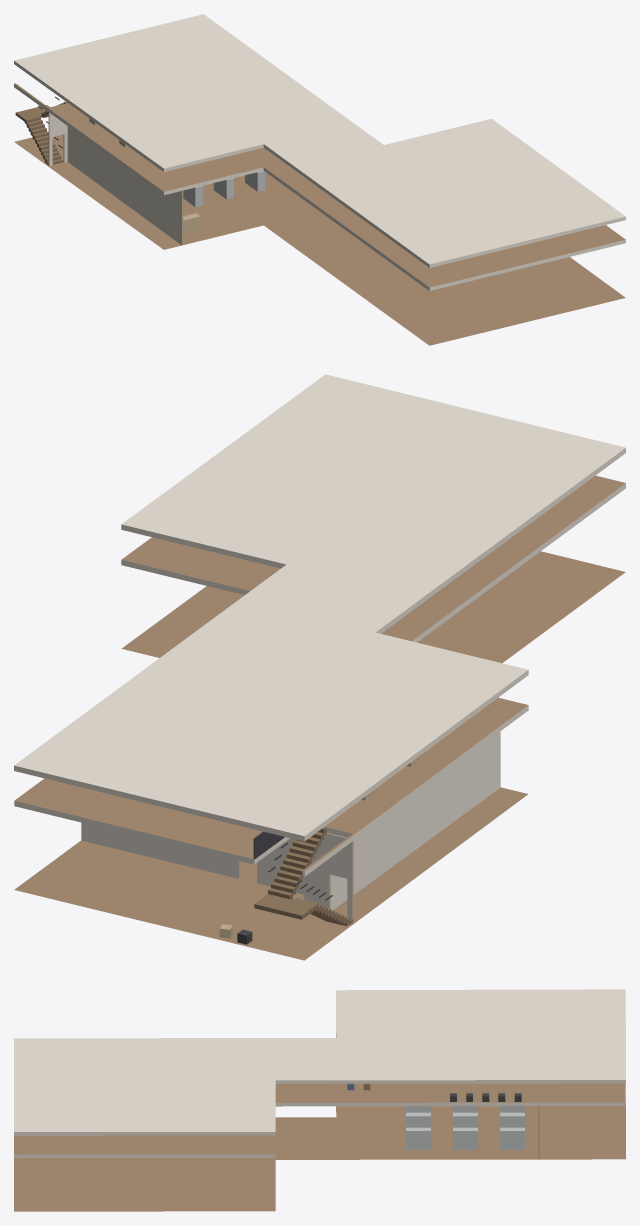
The model's file is interior.glb.
3 renders of one model, top to bottom at view 1: azimuth 30°, elevation 25°; view 2: azimuth 150°, elevation 25°; view 3: azimuth 270°, elevation 25°, orthographic. The views are drawn at different scales.
Parts seen in each view (by area): view 1: slabs, partitions, coarse-s0, stair; view 2: slabs, partitions, stair; view 3: slabs, coarse-s0, coarse-s1.
Boxes of the visible parts, x1=… form: slabs: x1=14, y1=14, x2=625, y2=345; partitions: x1=48, y1=112, x2=183, y2=245; coarse-s0: x1=183, y1=171, x2=265, y2=232; stair: x1=15, y1=96, x2=67, y2=165; slabs: x1=14, y1=374, x2=625, y2=960; partitions: x1=81, y1=731, x2=500, y2=922; stair: x1=253, y1=827, x2=352, y2=926; slabs: x1=14, y1=989, x2=625, y2=1211; coarse-s0: x1=406, y1=1106, x2=524, y2=1149; coarse-s1: x1=347, y1=1083, x2=521, y2=1101.
Size of the model in its own units: 23.02 by 6 by 41.72.
